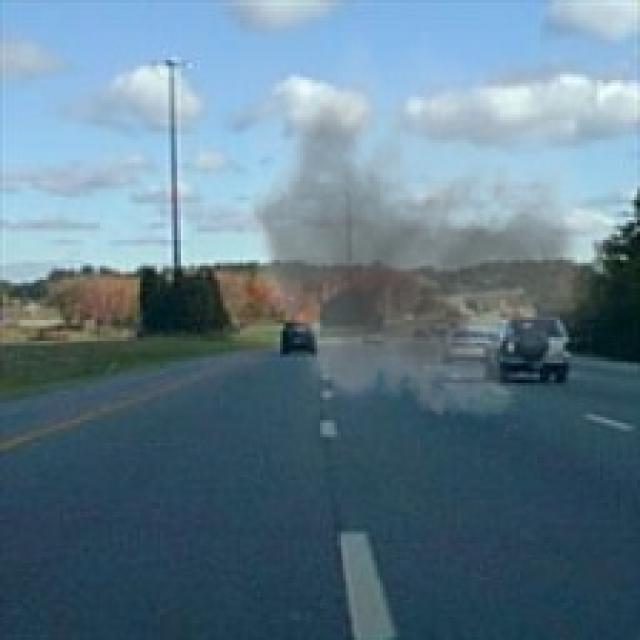Smoke: (222, 29, 608, 438)
